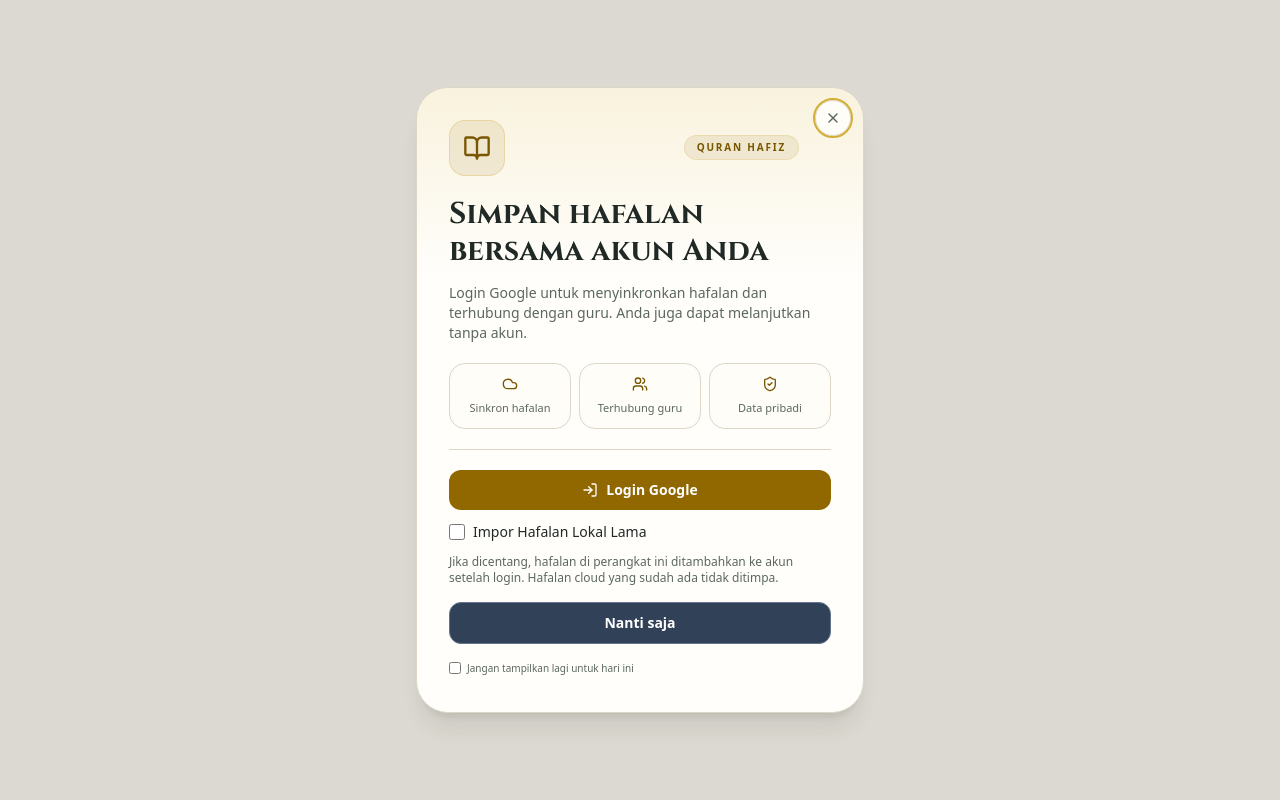
Test: Google login with optional local import › keeps the banner open while login is pending
Click the button "Login Google".
click(640, 490)  # box [449,470,831,510]
Wait 10000 ms
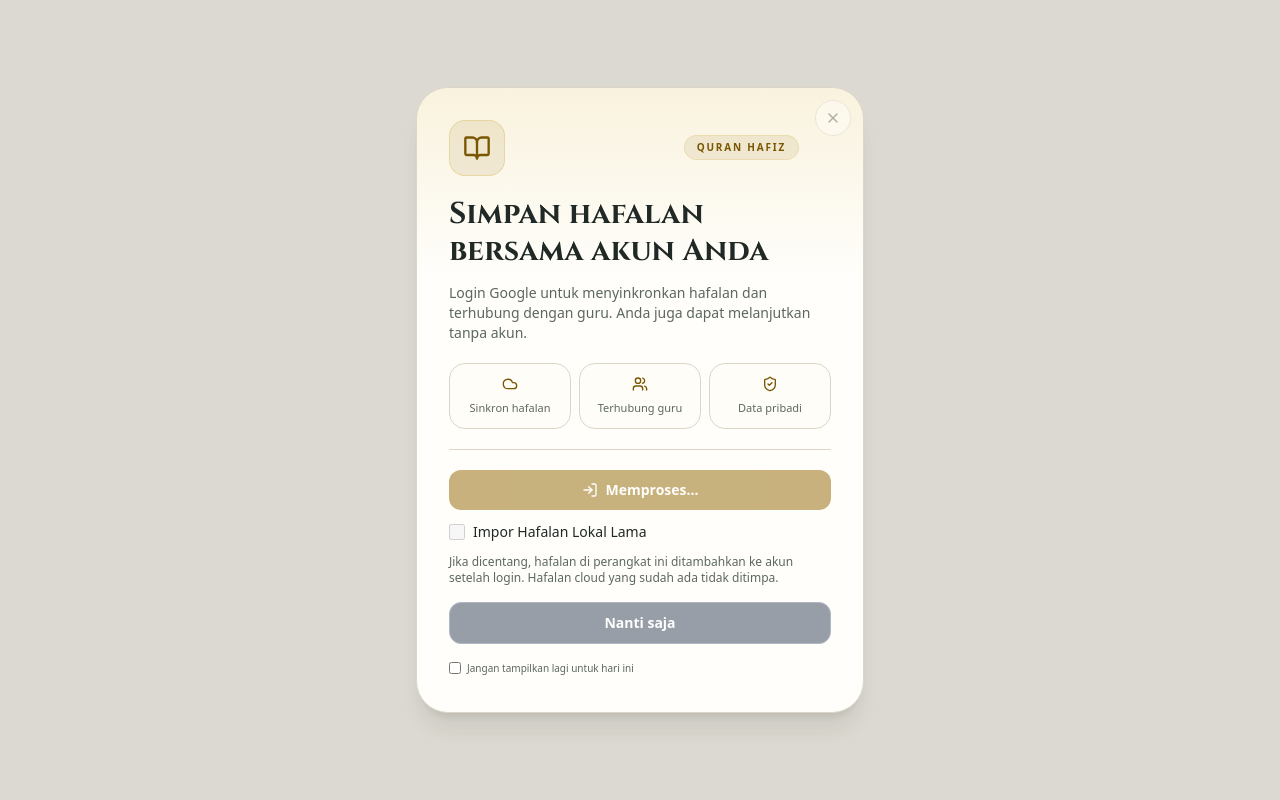
Check: the dialog is shown, box [416,87,864,713]
Check: the button named "Tutup banner login" is disabled, box [815,100,851,136]
Check: the button "Nanti saja" is disabled, box [449,602,831,644]
